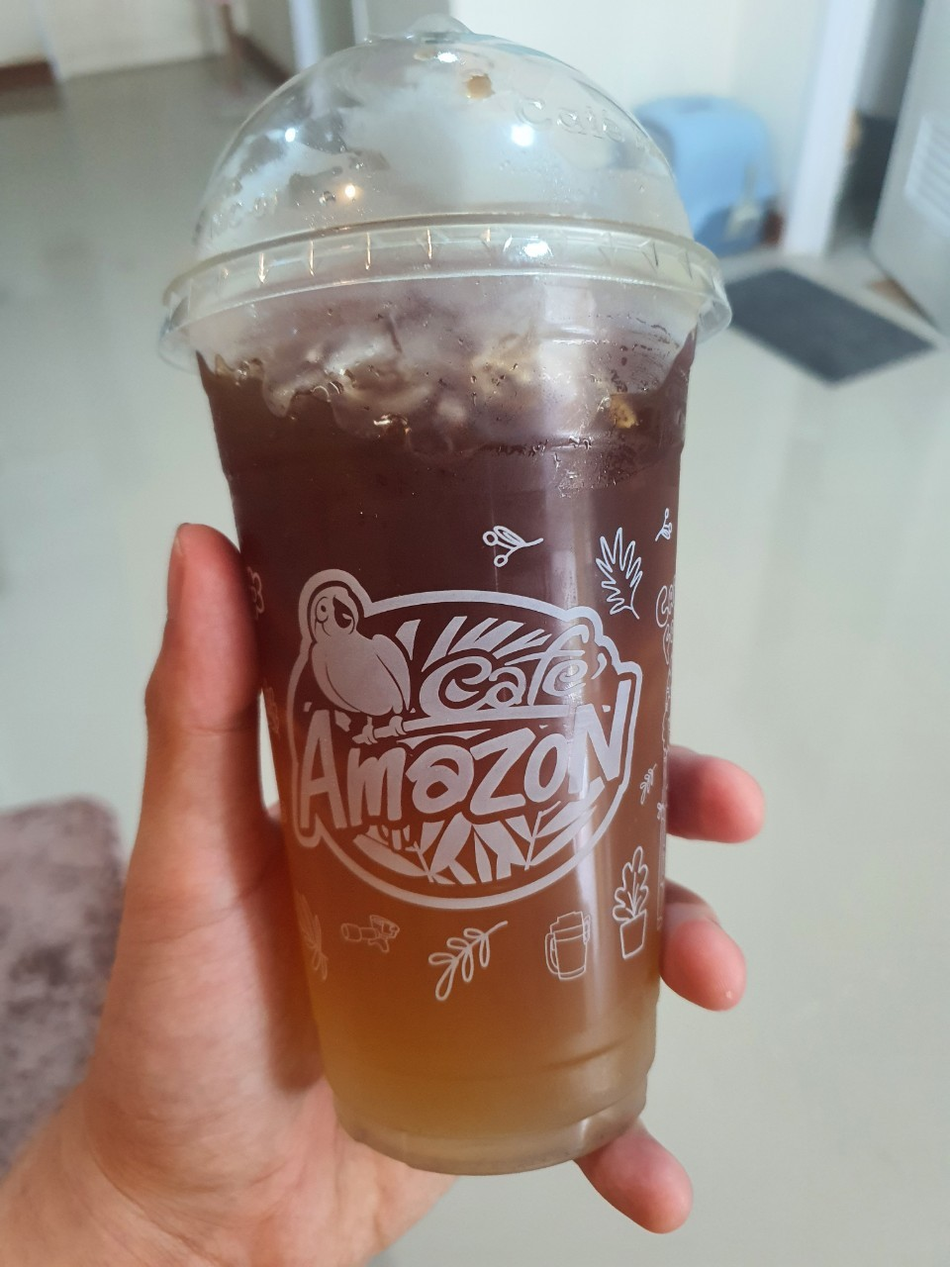plastic: (142, 17, 762, 1191)
